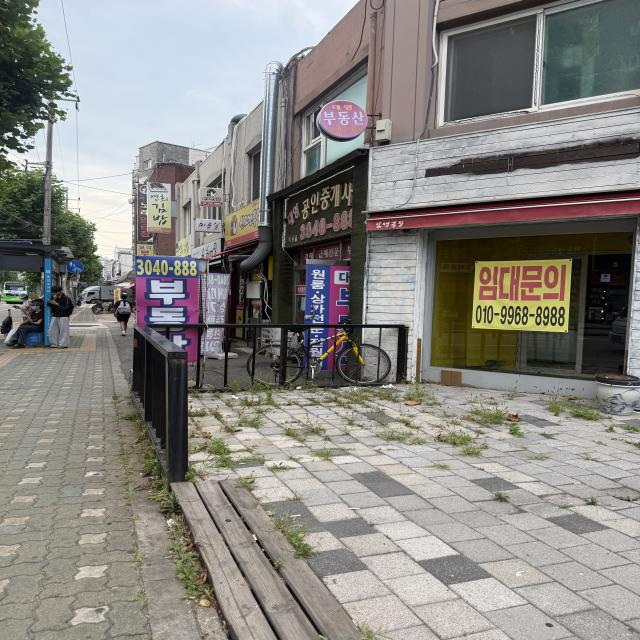bicycle: (246, 319, 391, 386)
